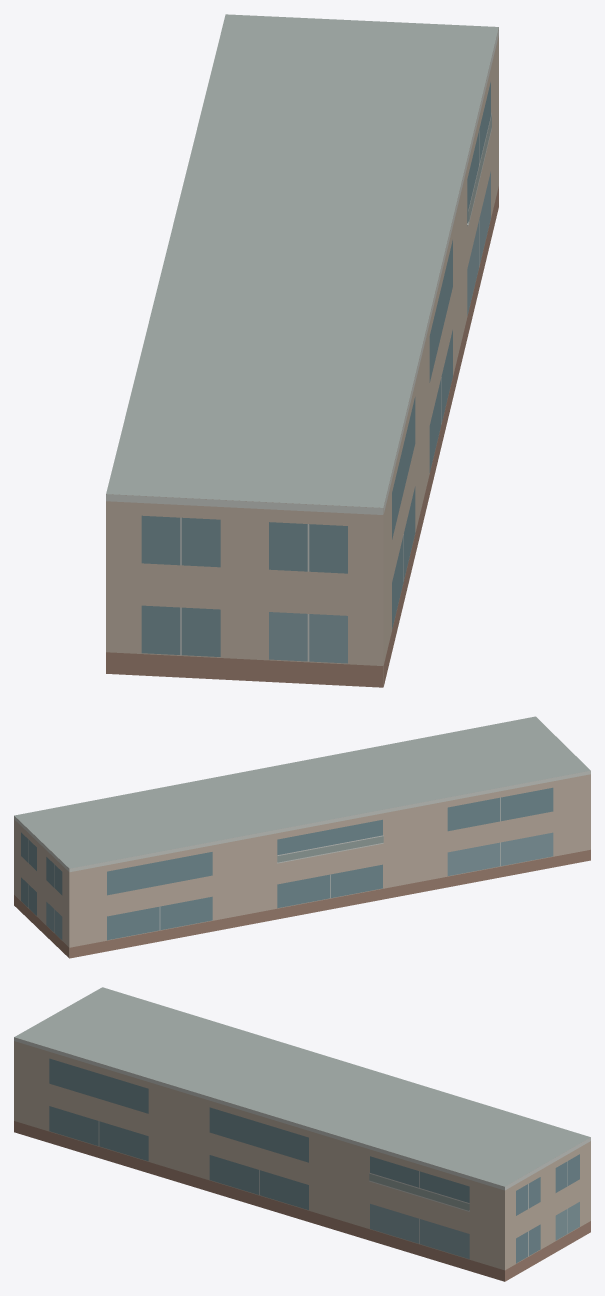
Rendered from survey-upis-32570082.glb.
The picture shows the model from 3 angles, top to bottom: view 1: azimuth 30°, elevation 25°; view 2: azimuth 150°, elevation 25°; view 3: azimuth 270°, elevation 25°; orthographic projection. The views are drawn at different scales.
Visible parts, largest first — view 1: survey-upis-32570082.tmp; view 2: survey-upis-32570082.tmp; view 3: survey-upis-32570082.tmp.
Part boxes in pixels (box(x1,y1,x2,y2)): survey-upis-32570082.tmp: box(106, 14, 498, 687); survey-upis-32570082.tmp: box(14, 716, 590, 958); survey-upis-32570082.tmp: box(14, 987, 590, 1281).
Size of the model in its own units: 27.49 by 6.1 by 33.57.
